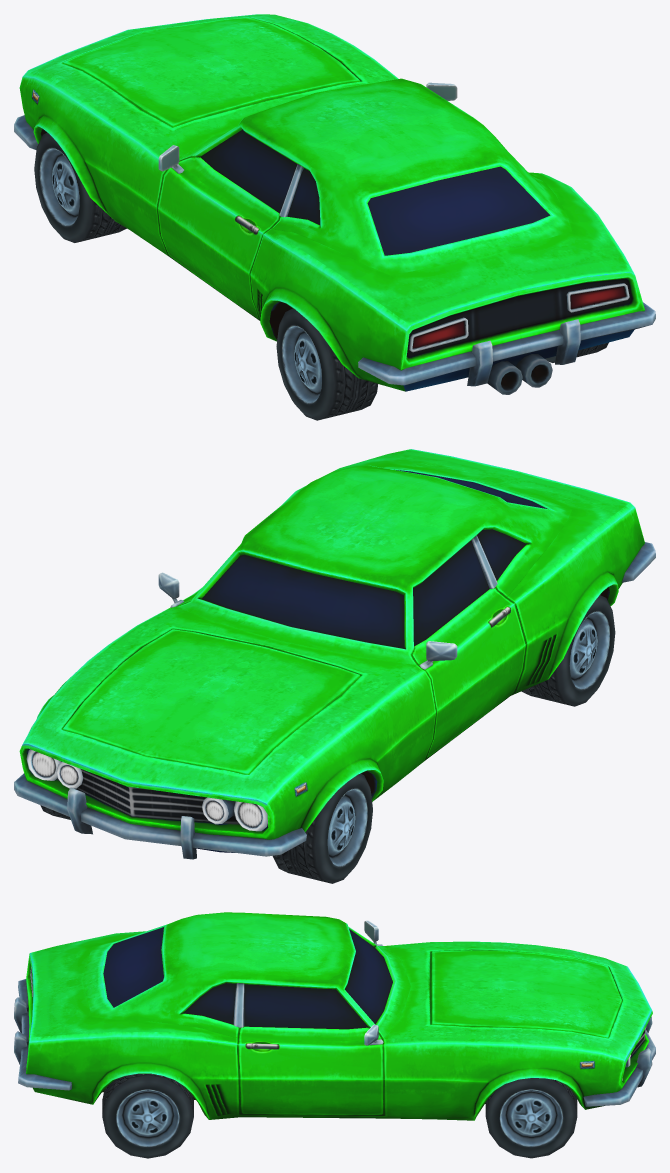
File: pasecar.glb
The picture shows the model from 3 angles, top to bottom: view 1: azimuth 30°, elevation 25°; view 2: azimuth 150°, elevation 25°; view 3: azimuth 270°, elevation 25°; orthographic projection. The views are drawn at different scales.
Parts seen in each view (by area): view 1: Pase_body, pase_windows, pase_wheel_back, pase_wheel_front_left; view 2: Pase_body, pase_windows, pase_wheel_front_left, pase_wheel_back; view 3: Pase_body, pase_windows, pase_wheel_back, pase_wheel_front_right.
Part boxes in pixels (box(x1,y1,x2,y2)): Pase_body: box(14, 14, 655, 394); pase_windows: box(200, 129, 550, 255); pase_wheel_back: box(276, 308, 608, 420); pase_wheel_front_left: box(34, 132, 126, 242); Pase_body: box(14, 449, 655, 859); pase_windows: box(201, 469, 547, 648); pase_wheel_front_left: box(272, 773, 372, 883); pase_wheel_back: box(521, 595, 615, 706); Pase_body: box(14, 912, 655, 1120); pase_windows: box(103, 927, 392, 1029); pase_wheel_back: box(102, 1073, 193, 1158); pase_wheel_front_right: box(485, 1078, 577, 1158).
Size of the model in its own units: 0.4495 by 0.2824 by 0.9936.
Materials: 1 (1 with a texture image).
